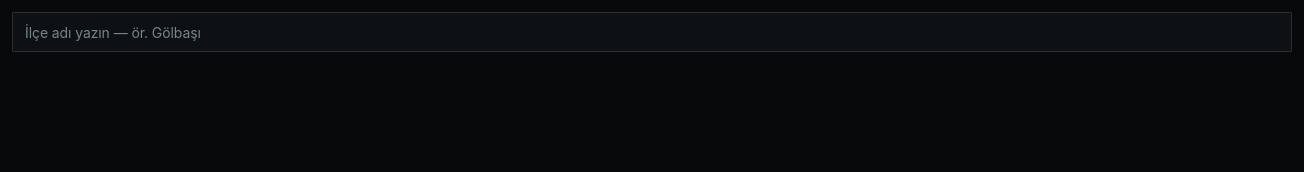
Test: LocationTypeahead › Türkçe harf katlaması ile de buluyor
Step 1. Type "golbasi" into the search field → x=652, y=32, box [12,12,1292,52]
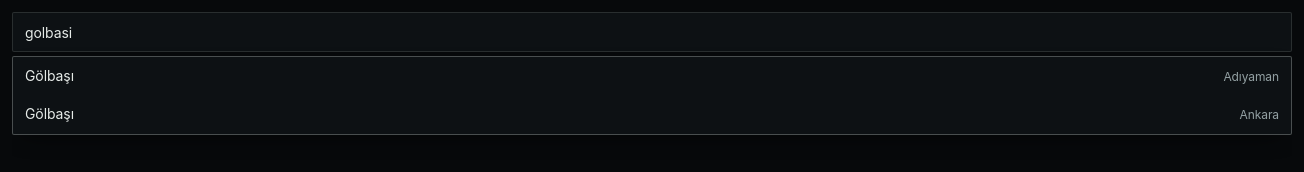
Now the text "Gölbaşı" is shown 2 times, box [25,67,74,84]; [25,105,74,122]
